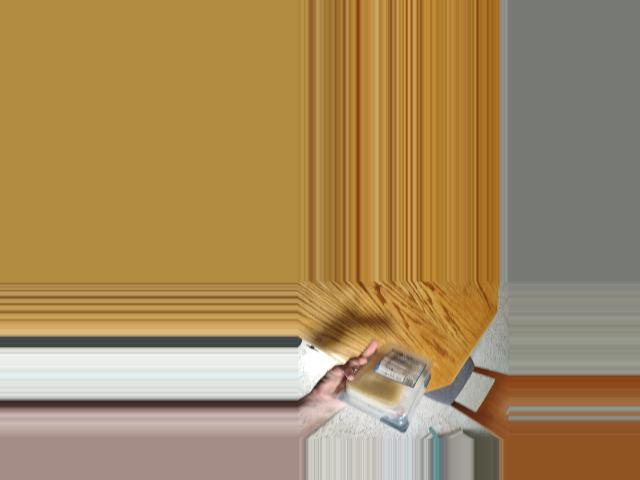cheese: (341, 345, 437, 421)
